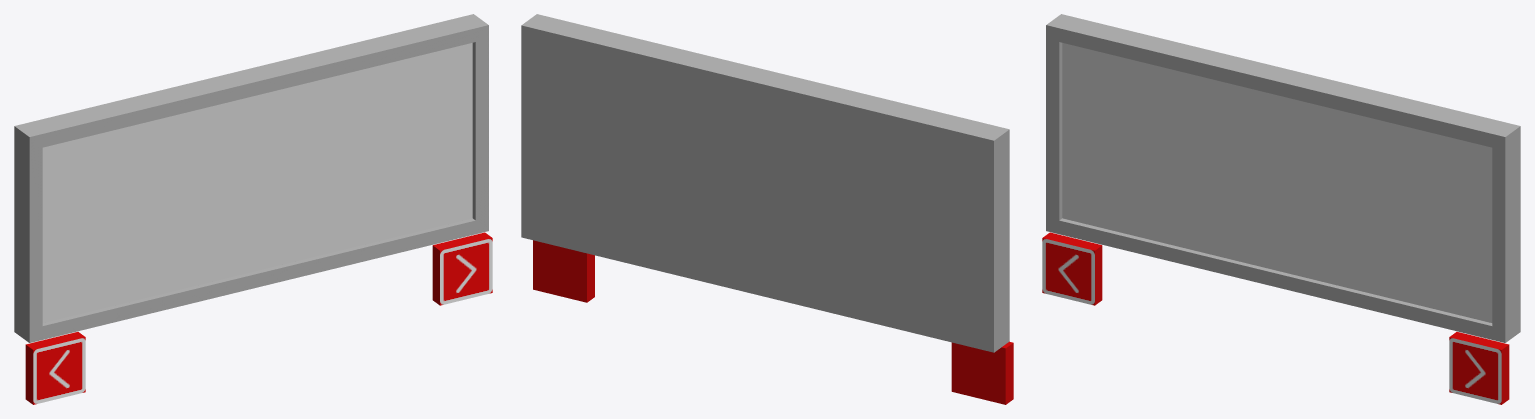
Rendered from Guide.glb.
The picture shows the model from 3 angles, left to right: view 1: azimuth 30°, elevation 25°; view 2: azimuth 150°, elevation 25°; view 3: azimuth 330°, elevation 25°; orthographic projection. The views are drawn at different scales.
Visible parts, largest first — view 1: Guide, ButtonNext, ButtonBack; view 2: Guide, ButtonBack, ButtonNext; view 3: Guide, ButtonBack, ButtonNext.
Part boxes in pixels (bbox=[...]): Guide: bbox=[14, 14, 488, 342]; ButtonNext: bbox=[432, 232, 492, 305]; ButtonBack: bbox=[25, 332, 85, 404]; Guide: bbox=[521, 14, 1009, 352]; ButtonBack: bbox=[951, 341, 1013, 404]; ButtonNext: bbox=[533, 240, 594, 302]; Guide: bbox=[1046, 14, 1520, 342]; ButtonBack: bbox=[1042, 232, 1102, 305]; ButtonNext: bbox=[1449, 332, 1509, 404].
Bounding box in the file's own units: 1.75 × 0.965 × 0.125.
4 materials, 1 textured.
